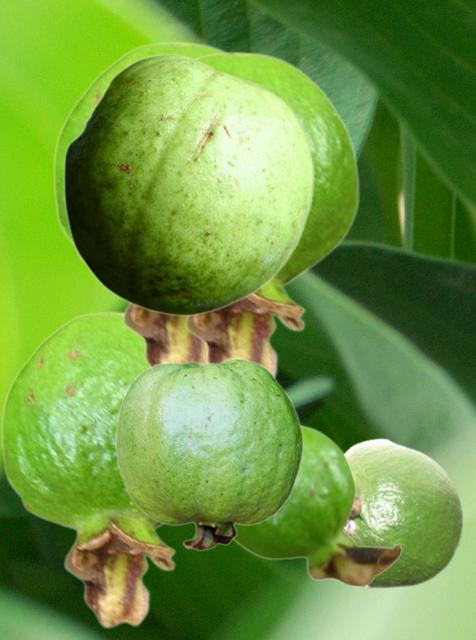guava: (63, 54, 313, 315), (182, 50, 359, 379), (52, 40, 227, 366), (0, 310, 178, 628), (115, 358, 303, 550), (233, 424, 402, 587), (345, 437, 463, 588)
